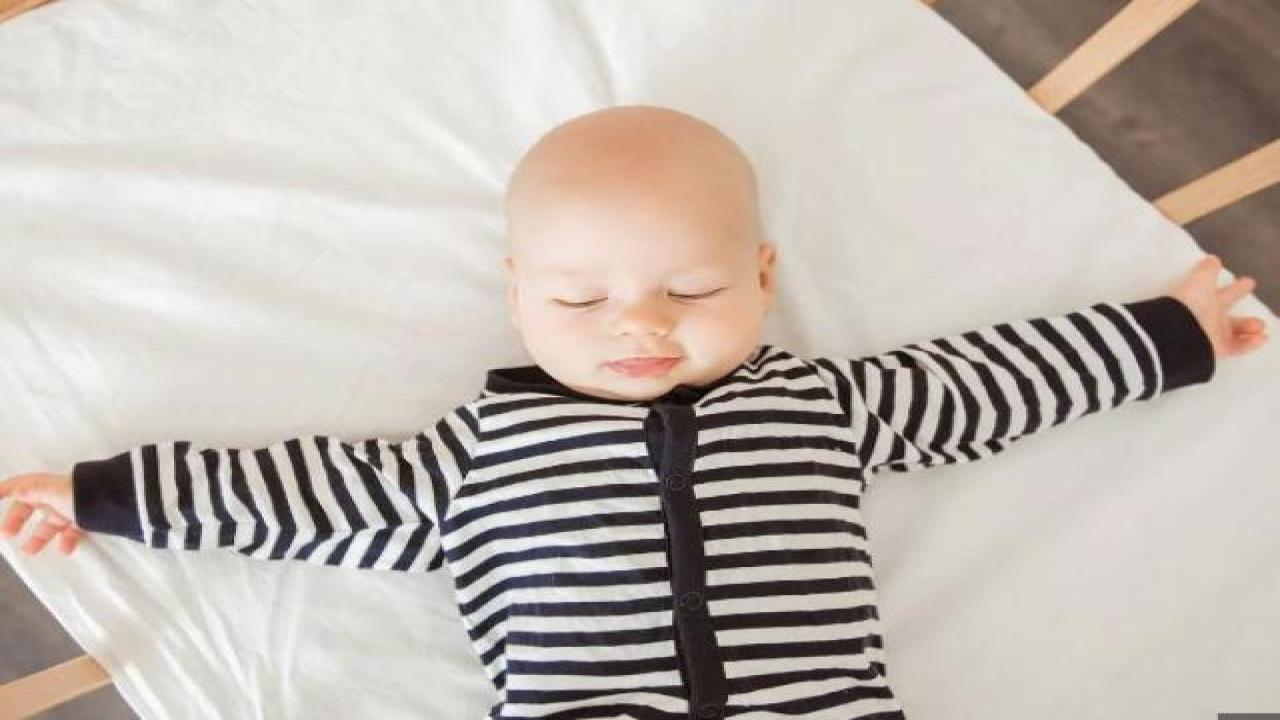hand: (1168, 257, 1276, 360), (0, 465, 108, 559)
